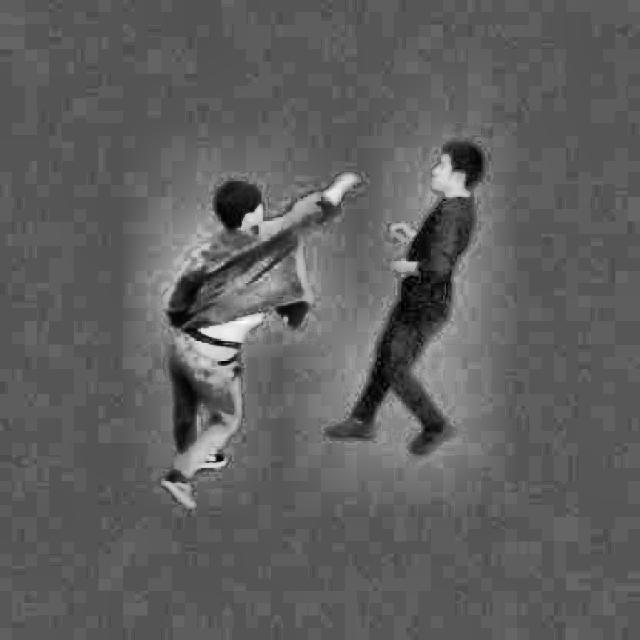robbery: (153, 134, 491, 518)
